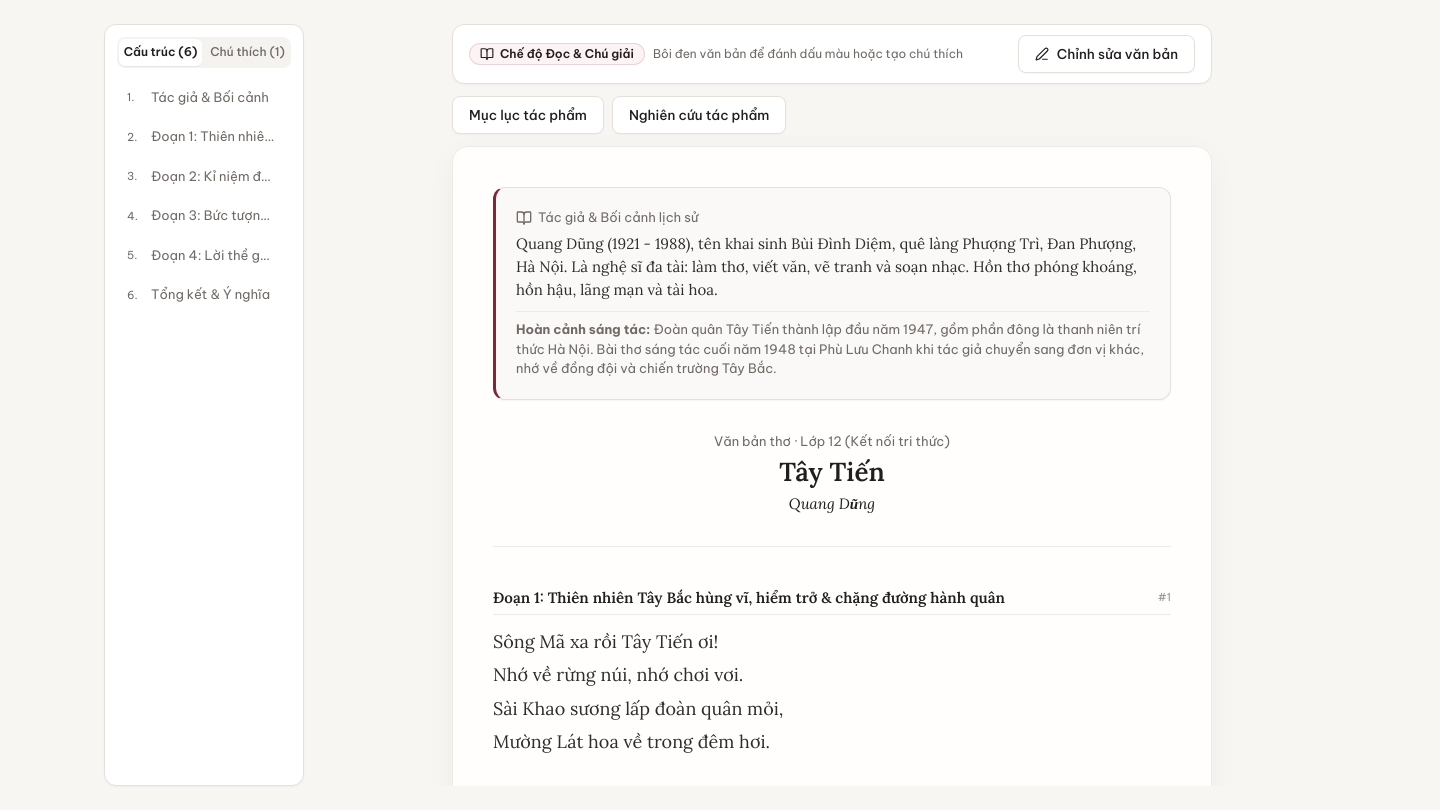
Scenario: Functional: Literature Reader & Annotation Workspace › switches left sidebar between "Cấu trúc" and "Chú thích" tabs
The image size is (1440, 810).
Expected: the text "Tác giả & Bối cảnh lịch sử" is shown, [538,208,698,228]
// Click tab Chú thích
Click the button "Chú thích (1)" at (248, 52), box [206,39,289,66]
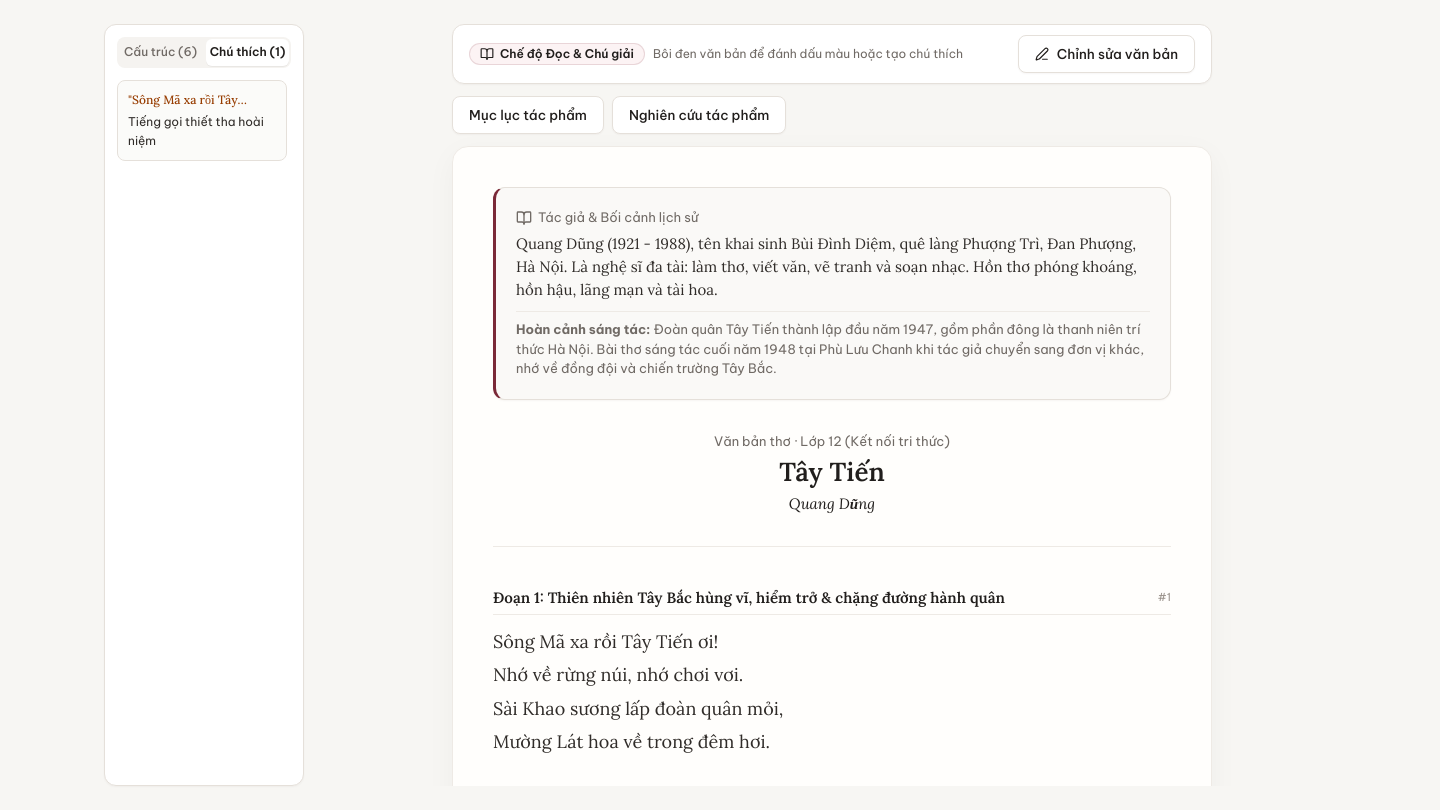
Now the text "Tiếng gọi thiết tha hoài niệm" is shown, box [128,113,276,150]
